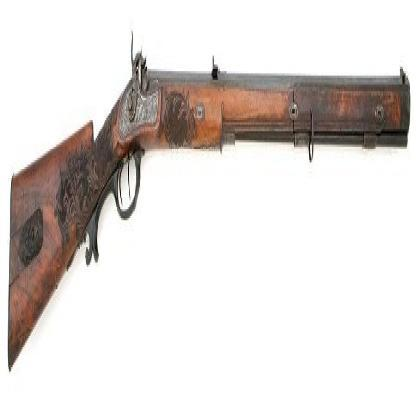gun: (2, 0, 414, 392)
